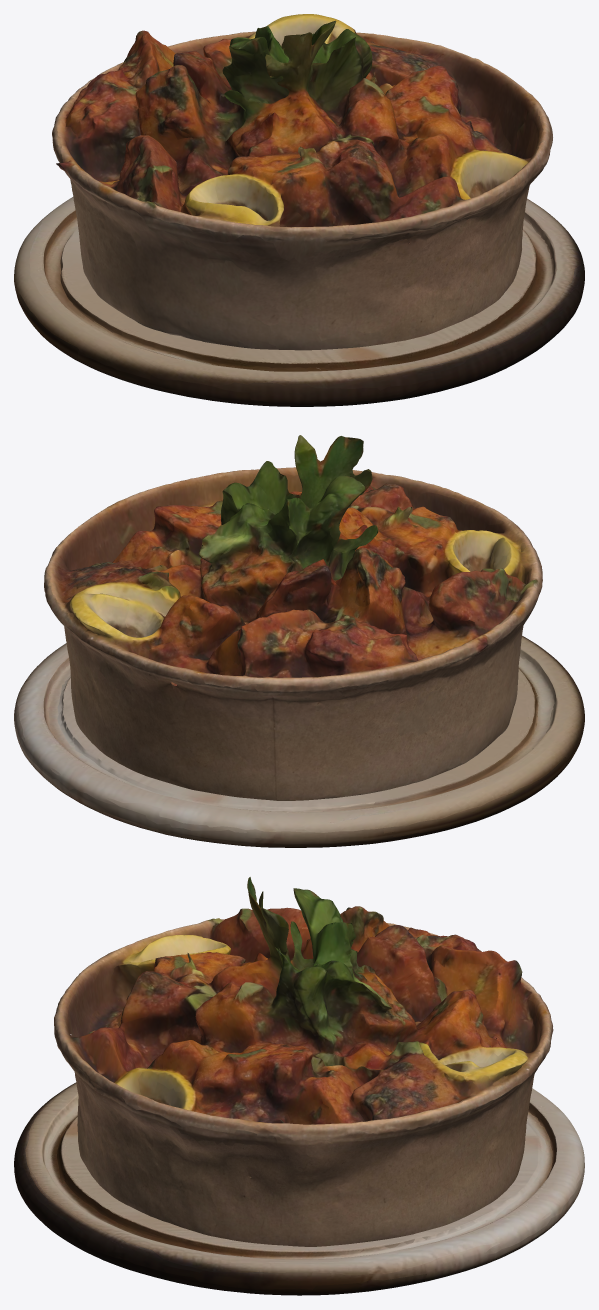
The model's file is spicy.potato.glb.
3 renders of one model, top to bottom at view 1: azimuth 30°, elevation 25°; view 2: azimuth 150°, elevation 25°; view 3: azimuth 270°, elevation 25°, orthographic.
Visible parts, largest first — view 1: /Root/Scenes/Scene/Object_107/Object_108/Submesh_0, /Root/Scenes/Scene/Object_107/Object_111/Object_112/Submesh_; view 2: /Root/Scenes/Scene/Object_107/Object_108/Submesh_0, /Root/Scenes/Scene/Object_107/Object_111/Object_112/Submesh_; view 3: /Root/Scenes/Scene/Object_107/Object_108/Submesh_0, /Root/Scenes/Scene/Object_107/Object_111/Object_112/Submesh_.
Part boxes in pixels (left/top/right/bottom): /Root/Scenes/Scene/Object_107/Object_108/Submesh_0: left=52, top=14, right=552, bottom=350; /Root/Scenes/Scene/Object_107/Object_111/Object_112/Submesh_: left=14, top=197, right=584, bottom=406; /Root/Scenes/Scene/Object_107/Object_108/Submesh_0: left=44, top=435, right=542, bottom=800; /Root/Scenes/Scene/Object_107/Object_111/Object_112/Submesh_: left=14, top=635, right=584, bottom=847; /Root/Scenes/Scene/Object_107/Object_108/Submesh_0: left=54, top=877, right=553, bottom=1246; /Root/Scenes/Scene/Object_107/Object_111/Object_112/Submesh_: left=14, top=1082, right=584, bottom=1295.
Size of the model in its own units: 0.2001 by 0.11 by 0.2001.
Materials: 2 (2 with a texture image).
